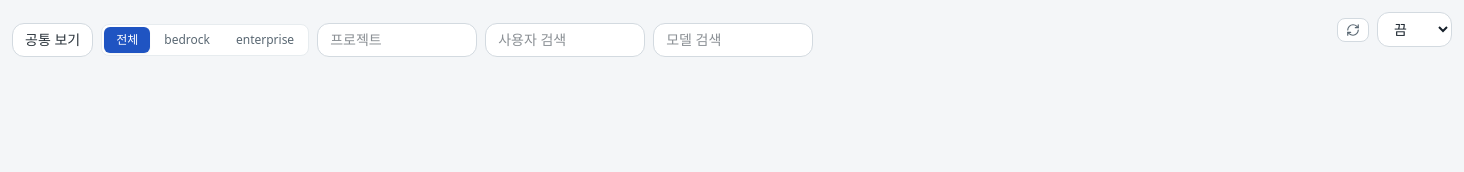
프로젝트 값을 입력하면 적용 범위 안내가 보인다
This screenshot has width=1464, height=172.
Type "repo-a" into the field with placeholder "프로젝트" at [397, 40], box [317, 22, 477, 56]
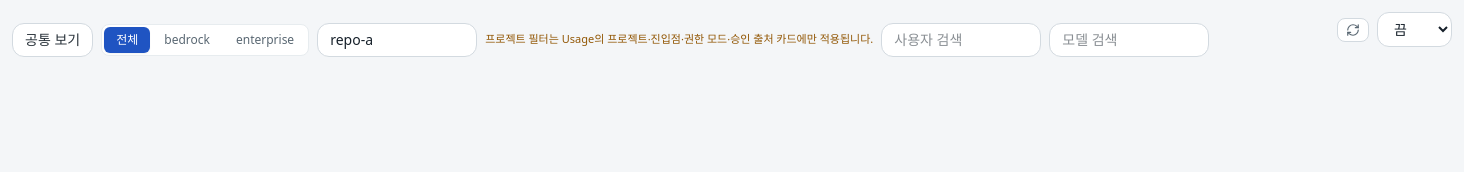
Expected: the text "프로젝트 필터는 Usage의 프로젝트·진입점·권한 모드·승인 출처 카드에만 적용됩니다." is shown, [485, 31, 873, 48]
